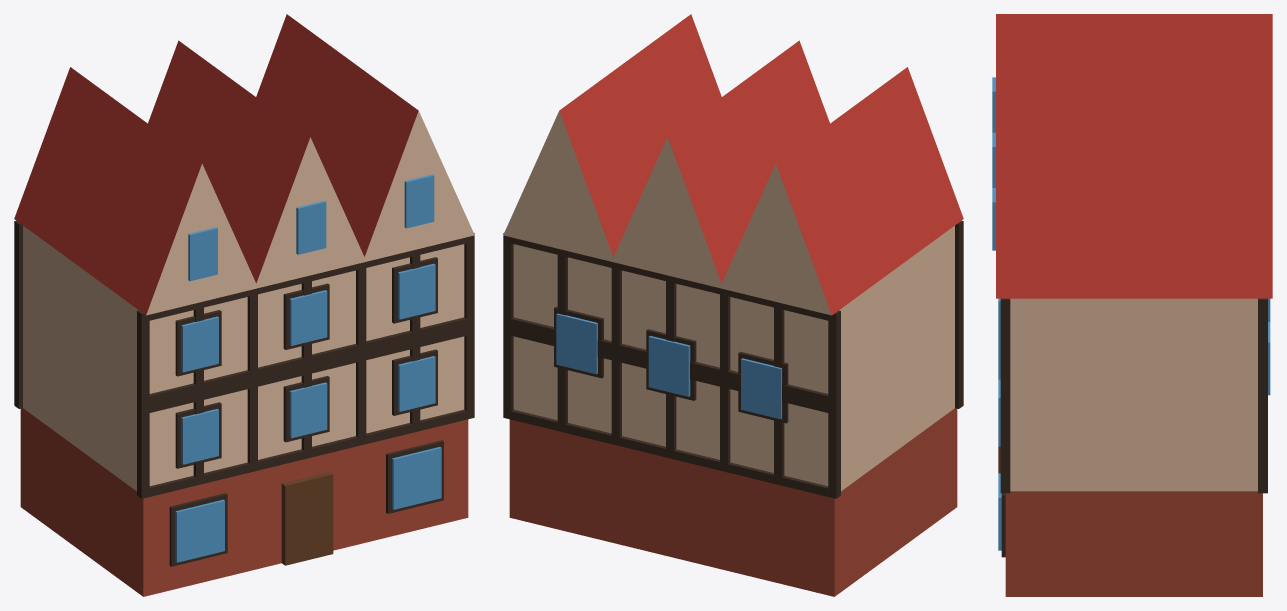
Rendered from 40_kgd_fishing_village_4.obj.
3 renders of one model, left to right at view 1: azimuth 30°, elevation 25°; view 2: azimuth 150°, elevation 25°; view 3: azimuth 270°, elevation 25°, orthographic. The views are drawn at different scales.
Parts seen in each view (by area): view 1: 40_kgd_fishing_village_4; view 2: 40_kgd_fishing_village_4; view 3: 40_kgd_fishing_village_4.
Boxes of the visible parts, x1,y1,x2,y2 form: 40_kgd_fishing_village_4: (14,14,474,596); 40_kgd_fishing_village_4: (503,14,963,596); 40_kgd_fishing_village_4: (992,14,1272,596).
Bounding box in the file's own units: 1.66 × 2.02 × 1.15.
